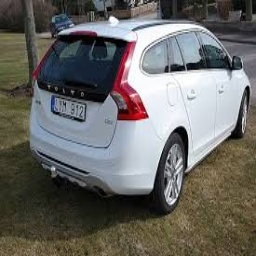sv_licence_plate: (50, 95, 88, 122)
